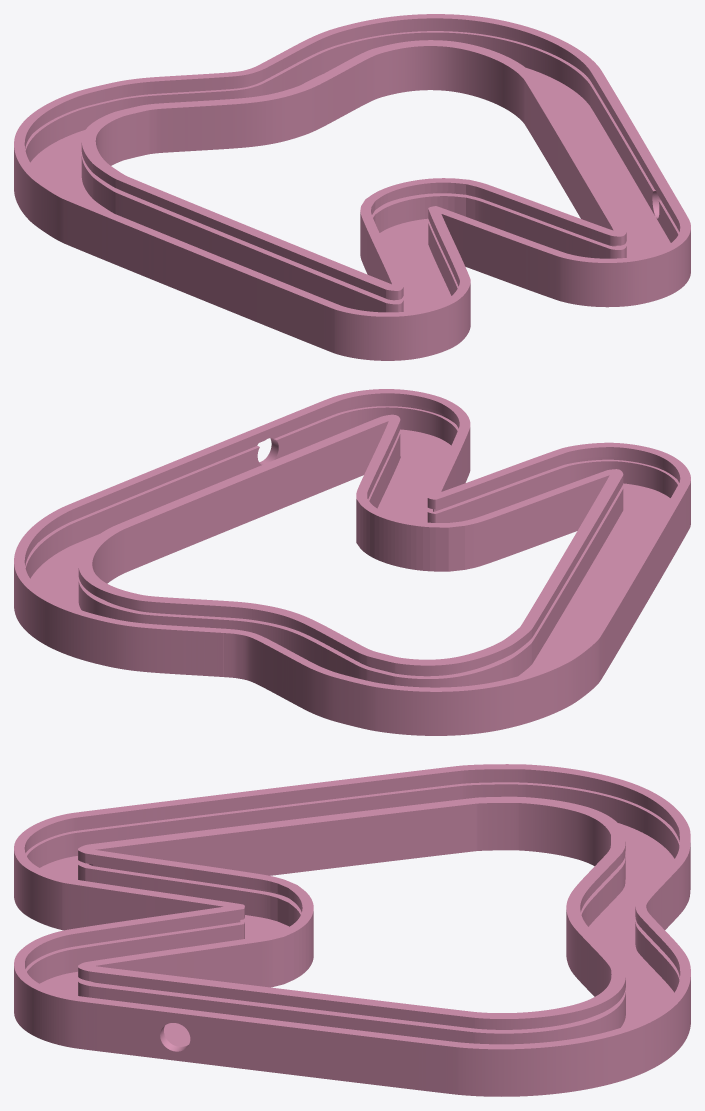
File: Amazing Stantia.glb
3 views of the same model, one above another, from view 1: azimuth 30°, elevation 25°; view 2: azimuth 150°, elevation 25°; view 3: azimuth 270°, elevation 25° (orthographic). The views are drawn at different scales.
Parts seen in each view (by area): view 1: Mesh_Mesh_head_geo.001_lambert2SG.001; view 2: Mesh_Mesh_head_geo.001_lambert2SG.001; view 3: Mesh_Mesh_head_geo.001_lambert2SG.001.
Boxes of the visible parts, left/top/right/bottom form: Mesh_Mesh_head_geo.001_lambert2SG.001: left=14, top=14, right=690, bottom=360; Mesh_Mesh_head_geo.001_lambert2SG.001: left=14, top=389, right=690, bottom=735; Mesh_Mesh_head_geo.001_lambert2SG.001: left=14, top=764, right=690, bottom=1096.
Size of the model in its own units: 0.1932 by 0.0151 by 0.1938.
